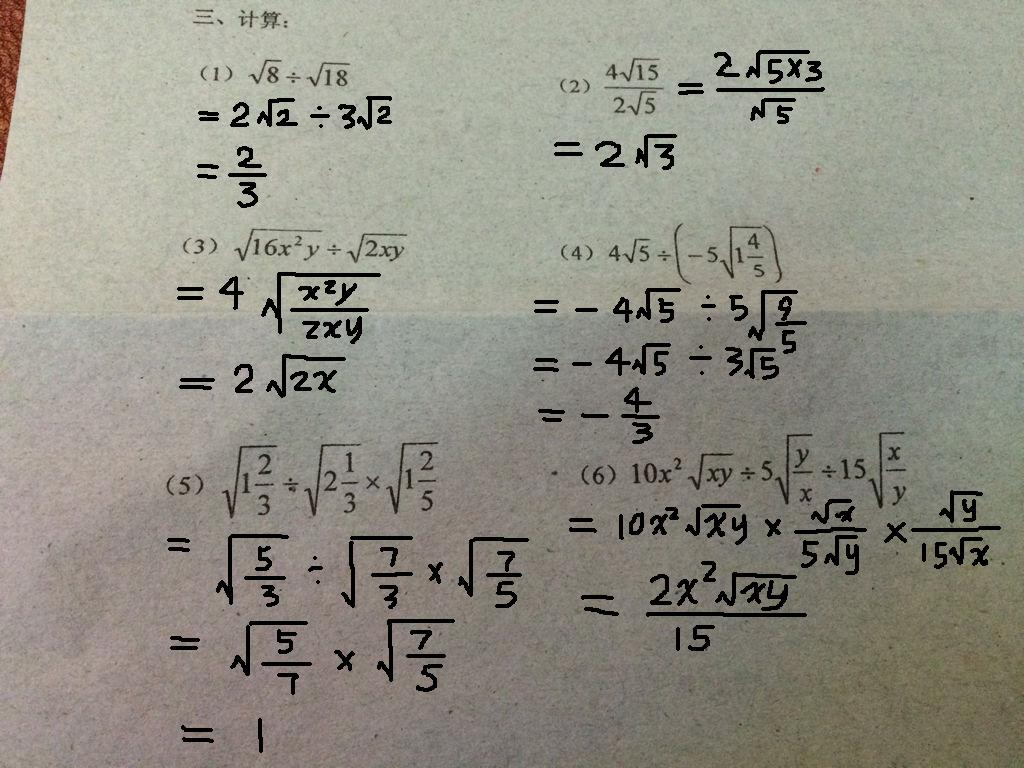division: (643, 600, 821, 629), (902, 519, 1012, 543), (281, 297, 374, 318), (713, 82, 835, 97), (791, 521, 866, 539), (240, 570, 282, 584), (774, 314, 806, 328), (785, 464, 818, 477), (414, 475, 442, 489), (252, 477, 272, 491), (881, 466, 909, 475), (341, 477, 359, 489)
sqrt: (265, 265, 384, 344), (376, 610, 468, 695), (231, 615, 312, 697), (341, 531, 420, 612), (213, 528, 287, 609), (459, 534, 534, 610), (384, 439, 443, 523), (220, 439, 278, 524), (264, 348, 349, 405), (866, 424, 921, 512), (304, 439, 358, 521), (234, 220, 328, 265), (716, 566, 798, 611), (774, 431, 819, 510), (746, 288, 807, 346), (721, 218, 766, 287), (748, 44, 822, 85), (690, 499, 746, 548), (631, 130, 682, 174), (347, 228, 406, 266), (686, 448, 740, 489), (638, 283, 685, 328), (935, 486, 985, 528), (951, 532, 993, 573), (633, 336, 677, 375), (745, 341, 782, 387), (827, 533, 862, 578), (258, 93, 295, 133), (816, 488, 853, 526), (309, 59, 351, 92), (357, 92, 390, 130), (750, 98, 802, 122), (246, 55, 282, 89), (624, 51, 658, 86), (632, 86, 666, 116), (627, 232, 654, 269)
square: (477, 563, 526, 588), (694, 561, 727, 588), (369, 566, 420, 583), (661, 505, 682, 528), (669, 451, 686, 475), (324, 277, 339, 294), (291, 231, 301, 248)
